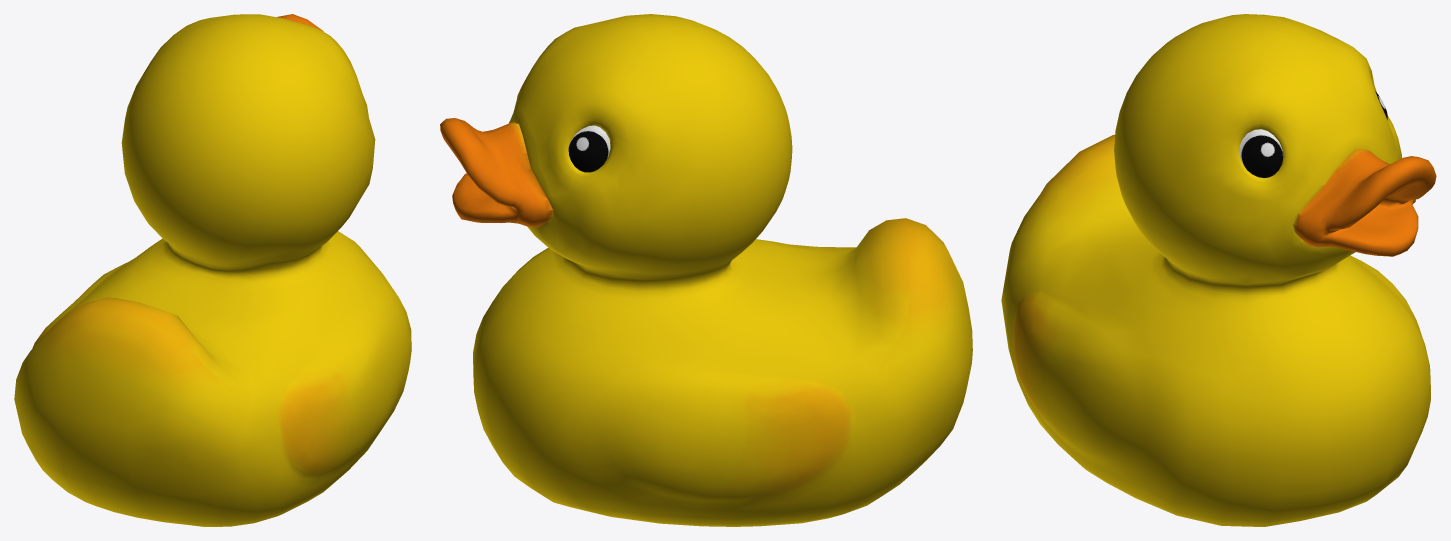
File: Duck.gltf
3 renders of one model, left to right at view 1: azimuth 30°, elevation 25°; view 2: azimuth 150°, elevation 25°; view 3: azimuth 270°, elevation 25°, orthographic. The views are drawn at different scales.
Bounding box in the file's own units: 1.51 × 1.54 × 1.33.
Materials: 1 (1 with a texture image).
